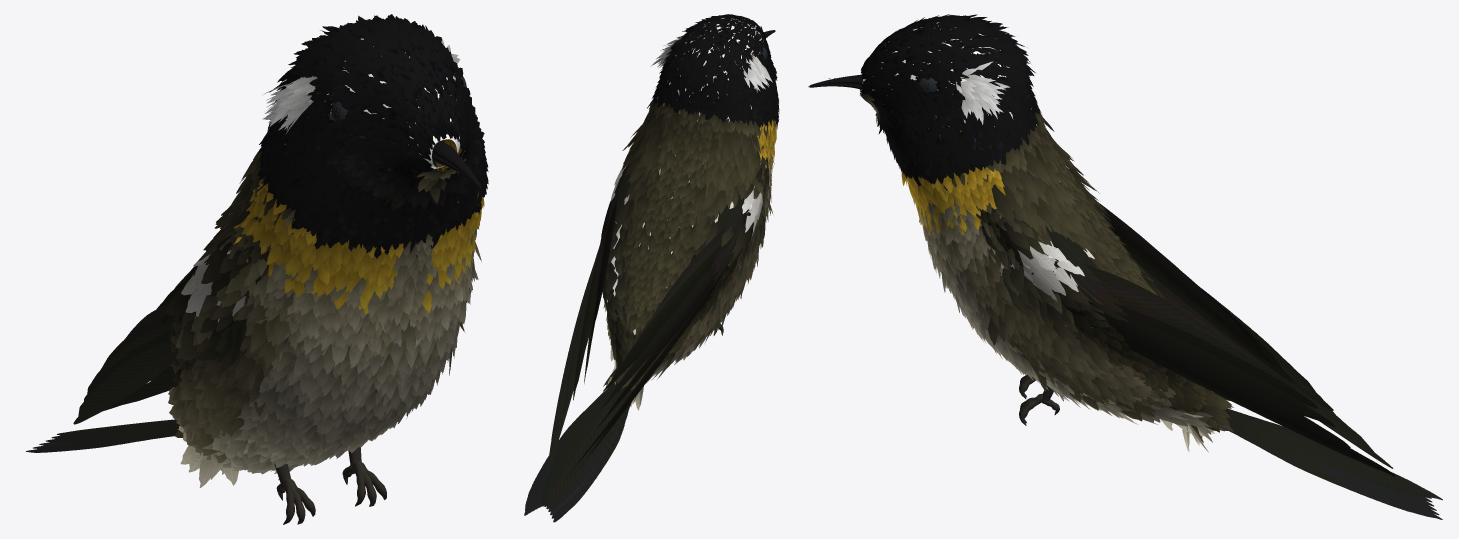
Rendered from manu-hihi.glb.
The picture shows the model from 3 angles, left to right: view 1: azimuth 30°, elevation 25°; view 2: azimuth 150°, elevation 25°; view 3: azimuth 270°, elevation 25°; orthographic projection. The views are drawn at different scales.
Parts seen in each view (by area): view 1: contour_feathers, wing_and_tail_feathers, legs_and_feet, bill; view 2: contour_feathers, wing_and_tail_feathers, body_skin; view 3: contour_feathers, wing_and_tail_feathers, legs_and_feet.
Boxes of the visible parts, x1,y1,x2,y2 form: contour_feathers: (168, 14, 488, 487); wing_and_tail_feathers: (26, 202, 457, 452); legs_and_feet: (274, 72, 466, 524); bill: (432, 140, 480, 188); contour_feathers: (603, 14, 779, 410); wing_and_tail_feathers: (524, 141, 768, 522); body_skin: (607, 18, 763, 334); contour_feathers: (859, 14, 1233, 452); wing_and_tail_feathers: (976, 202, 1442, 519); legs_and_feet: (918, 77, 1059, 425).
Bounding box in the file's own units: 0.0554 × 0.1361 × 0.1594.
4 materials, 1 textured.
